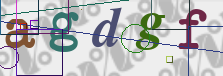a: (4, 18, 34, 48)
d: (91, 7, 122, 48)
f: (178, 8, 208, 49)
g: (48, 11, 78, 53), (135, 12, 166, 51)
